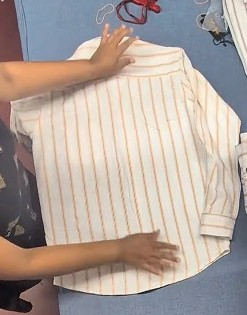SHIRT: (3, 68, 243, 247)
